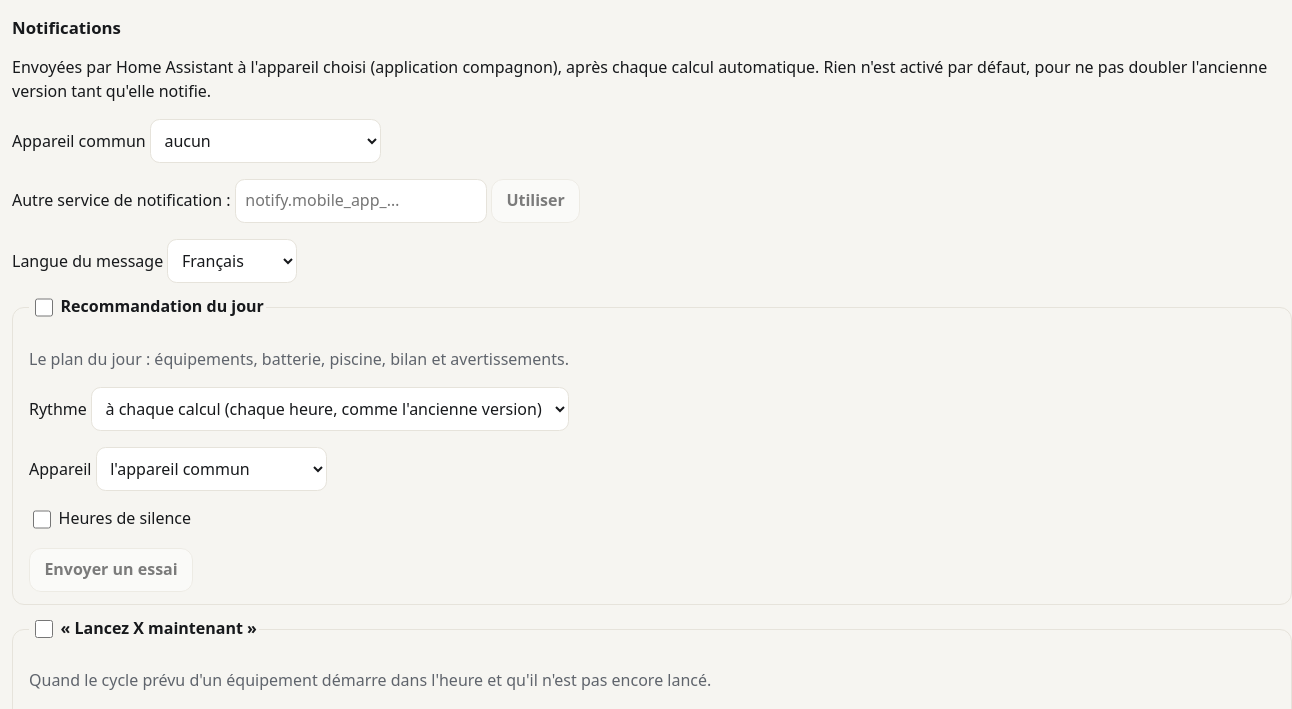
Test case: SettingsScreen › une fois par jour : l'heure se règle
Expected: the field labelled "à partir de" is not shown
Select "une fois par jour" in the dropdown labelled "Rythme" at {"x": 330, "y": 409}, box [91,387,569,431]
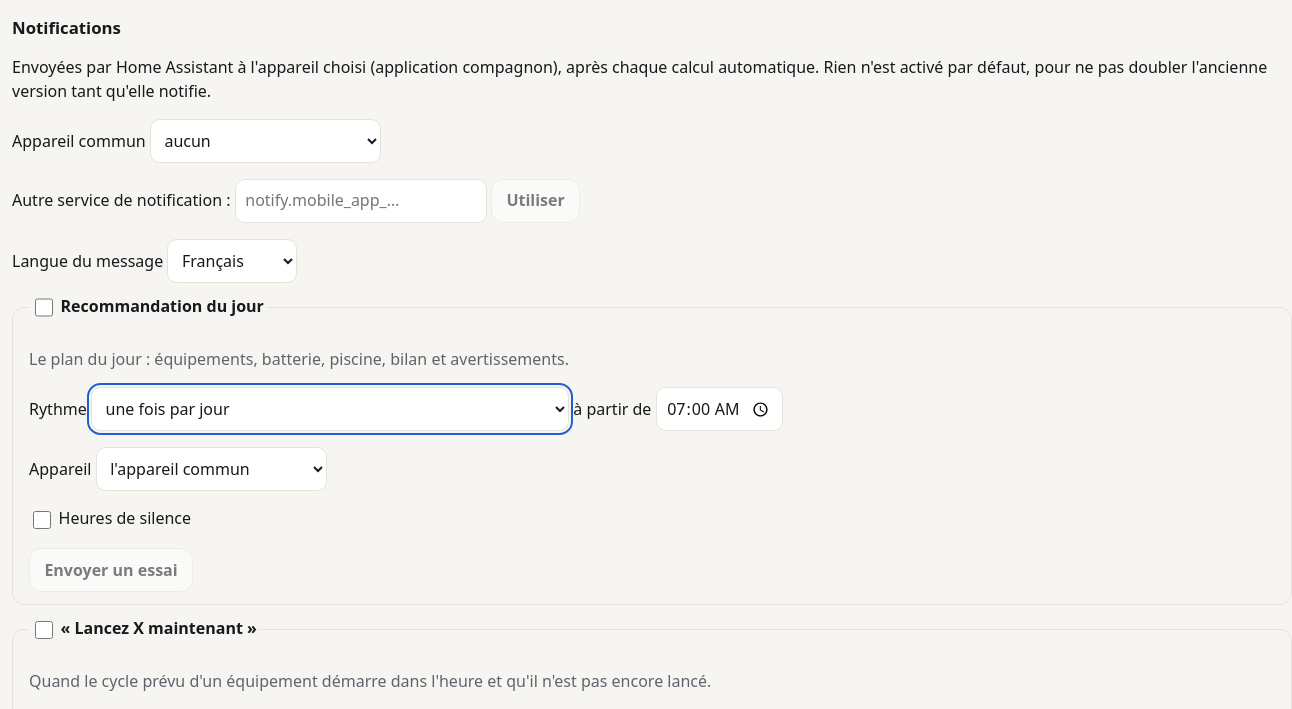
Expected: the time field labelled "à partir de" holds "07:00", [656,387,783,431]
